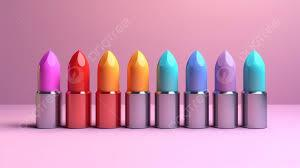lipstick: (36, 48, 62, 129), (95, 51, 121, 129), (154, 50, 180, 128), (243, 50, 269, 128), (214, 49, 239, 129), (184, 51, 209, 127), (68, 50, 92, 128), (126, 50, 150, 128)
